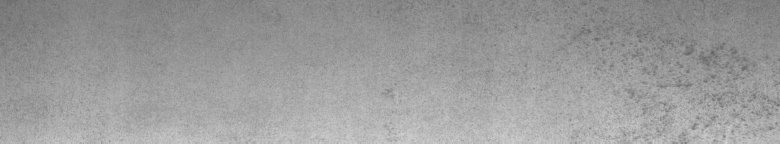ib: (580, 25, 776, 136)
